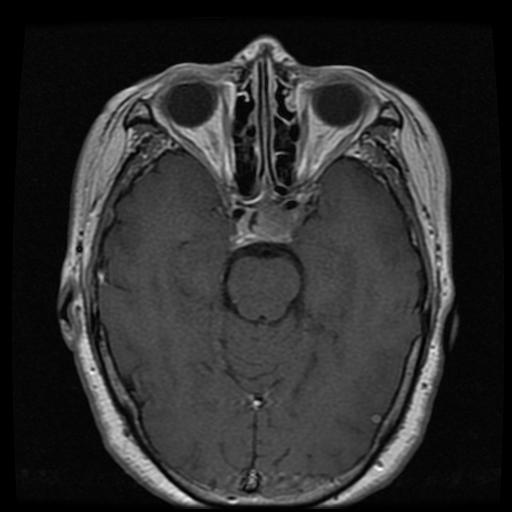Pituirity_tumour: (254, 196, 300, 239)
